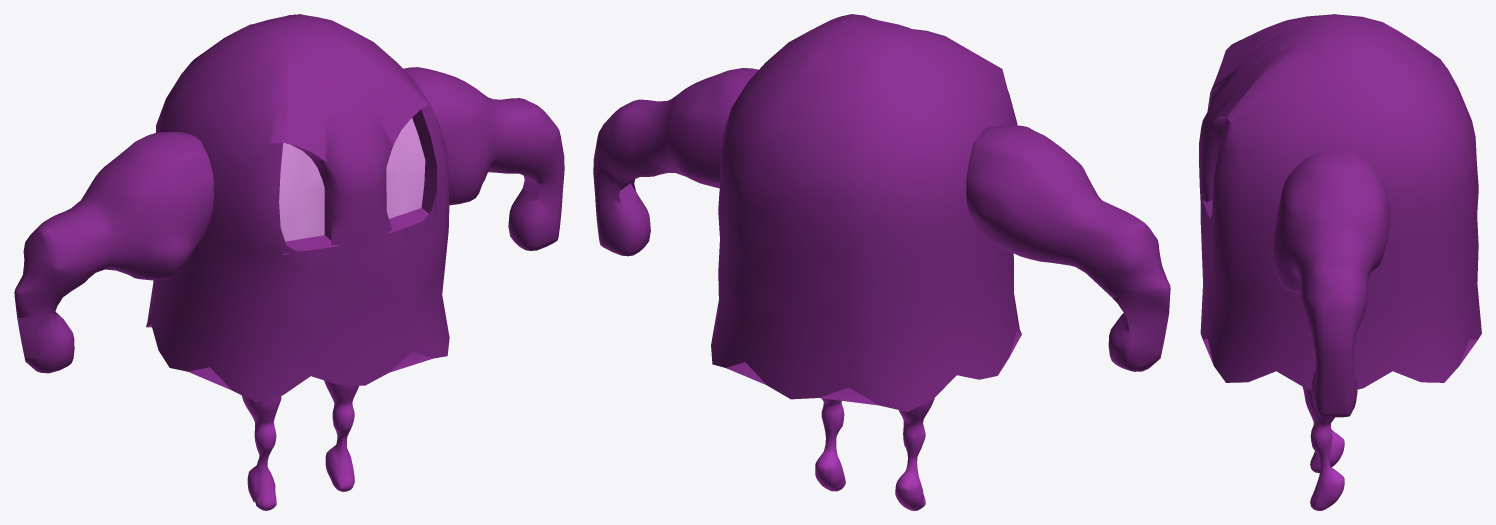
File: ghost maybe_stronk.obj
The picture shows the model from 3 angles, left to right: view 1: azimuth 30°, elevation 25°; view 2: azimuth 150°, elevation 25°; view 3: azimuth 270°, elevation 25°; orthographic projection. The views are drawn at different scales.
Visible parts, largest first — view 1: ghost; view 2: ghost; view 3: ghost.
Part boxes in pixels (x1,y1,x2,y2): ghost: (14,14,564,510); ghost: (593,14,1170,510); ghost: (1199,14,1481,510).
Bounding box in the file's own units: 5.45 × 4.41 × 2.43.
Materials: 1 (1 with a texture image).
